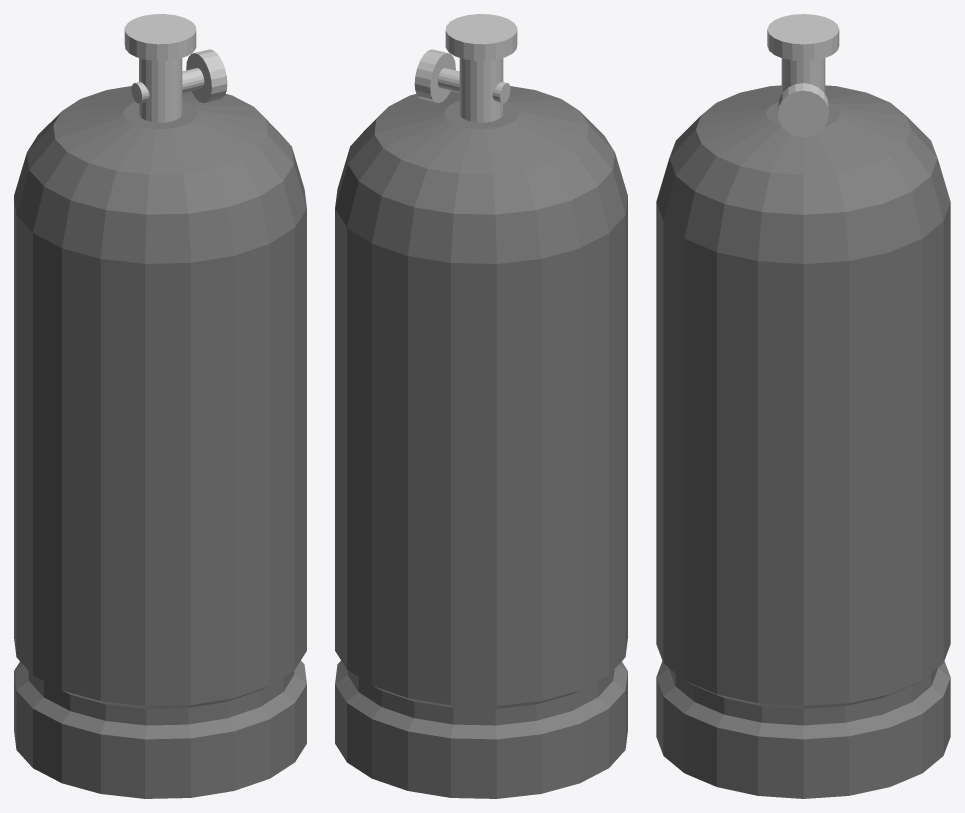
Rendered from co2canister.fbx.
3 renders of one model, left to right at view 1: azimuth 30°, elevation 25°; view 2: azimuth 150°, elevation 25°; view 3: azimuth 270°, elevation 25°, orthographic.
Parts seen in each view (by area): view 1: canister, valve; view 2: canister, valve; view 3: canister, valve.
Boxes of the visible parts, left/top/right/bottom form: canister: left=14, top=86, right=306, bottom=798; valve: left=124, top=14, right=227, bottom=122; canister: left=335, top=86, right=627, bottom=798; valve: left=414, top=14, right=517, bottom=122; canister: left=656, top=85, right=950, bottom=798; valve: left=767, top=14, right=839, bottom=137.
Size of the model in its own units: 3.23 by 8.56 by 3.23.
